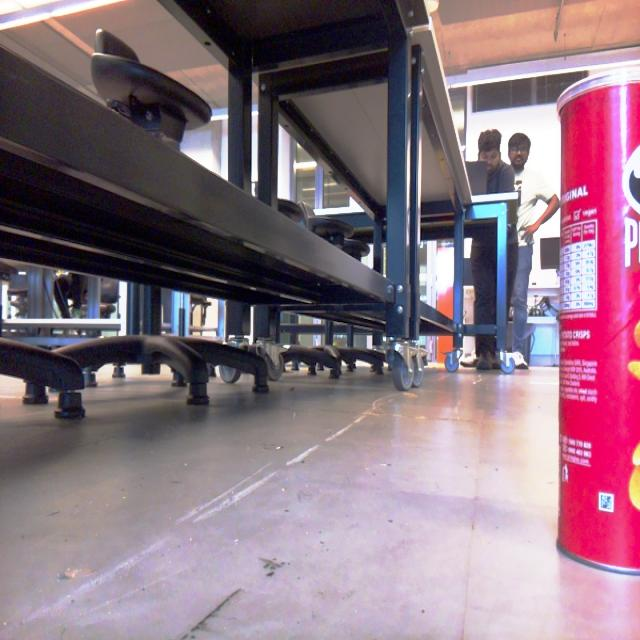redpringles: (537, 42, 640, 591)
